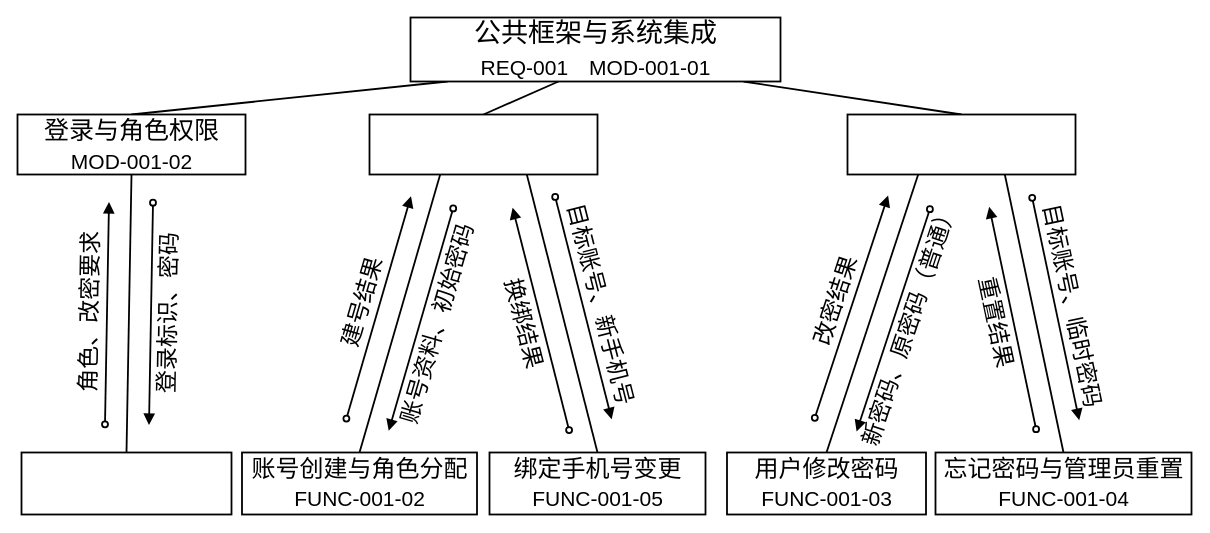
Image size: 1210x533. Some labels were removed from this diagram. Here are the shapes that lost their labels. From the top down, the box of each, then its label:
(368, 113, 598, 175): 账号管理 MOD-001-03
(846, 113, 1076, 175): 密码管理 MOD-001-04
(20, 451, 232, 515): 登录与身份识别 FUNC-001-01
